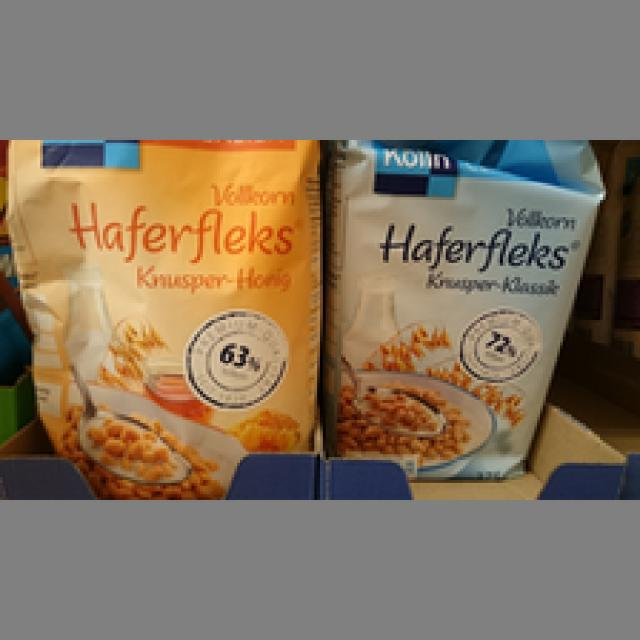groceries: (0, 137, 317, 494), (326, 134, 606, 477)
